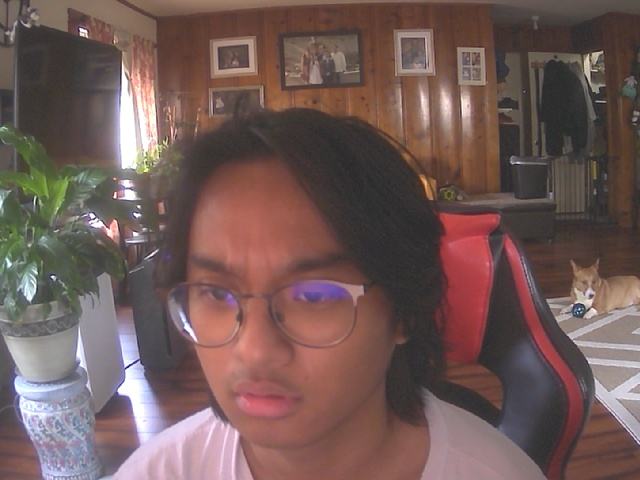anger: (149, 131, 430, 454)
